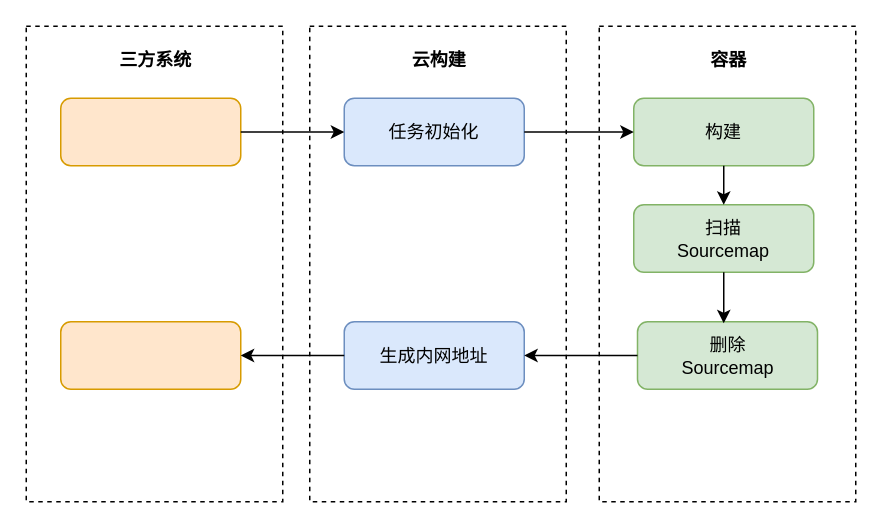
The diagram is 882 pixels wide and 528 high, and some of its shapes have lost their labels. The shapes that lost their labels are listed below. From the top down, each one's centre as x and y in pixels, then its label:
pixel 150 131: 发起任务
pixel 150 354: 获得产物
